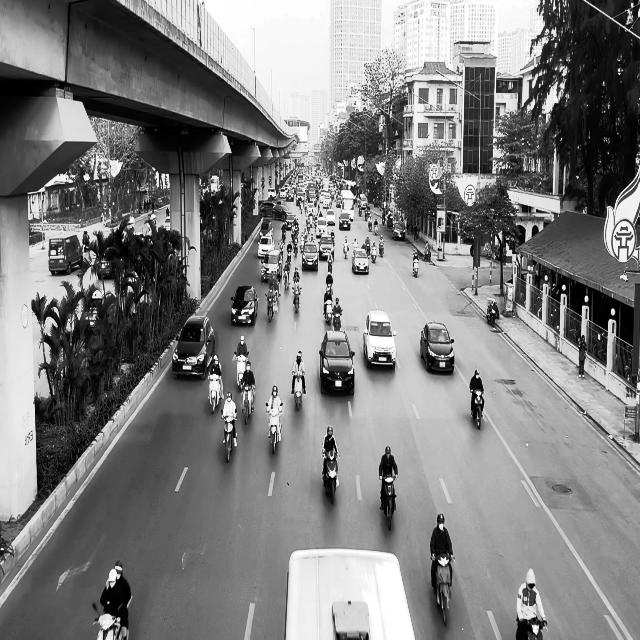car: (172, 315, 215, 380), (320, 330, 356, 396), (363, 309, 397, 369), (420, 322, 455, 373), (231, 285, 258, 325), (260, 250, 282, 282), (352, 248, 369, 274), (392, 221, 406, 240)
motorbike: (430, 552, 454, 626), (92, 601, 126, 639), (380, 473, 398, 530), (322, 450, 340, 504), (266, 403, 283, 454), (221, 412, 238, 462), (516, 616, 548, 640), (470, 386, 485, 429), (241, 382, 255, 424), (208, 373, 222, 414), (486, 298, 498, 326), (412, 254, 420, 276)
